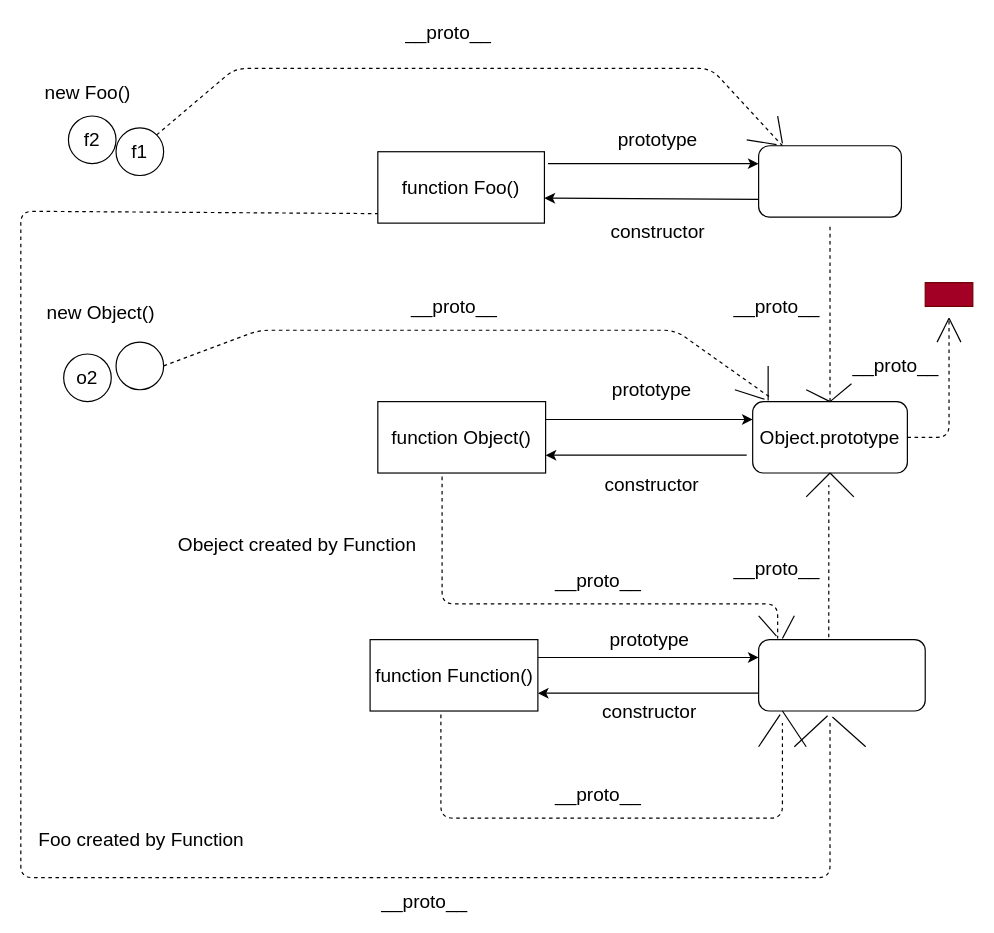
The diagram is 994 pixels wide and 933 high, and some of its shapes have lost their labels. Each missing label, with the box of its shape:
Foo.prototype: (757, 145, 901, 217)
Function.prototype: (757, 638, 925, 711)
null: (924, 281, 973, 306)
o1: (115, 341, 164, 390)
